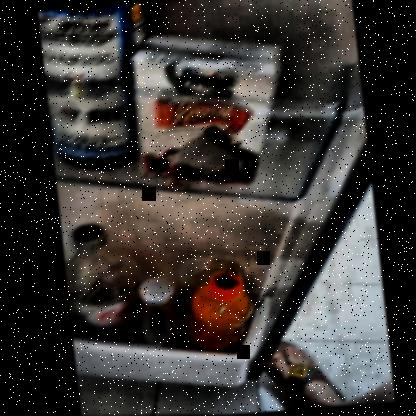heavy_cream: (128, 31, 280, 184)
